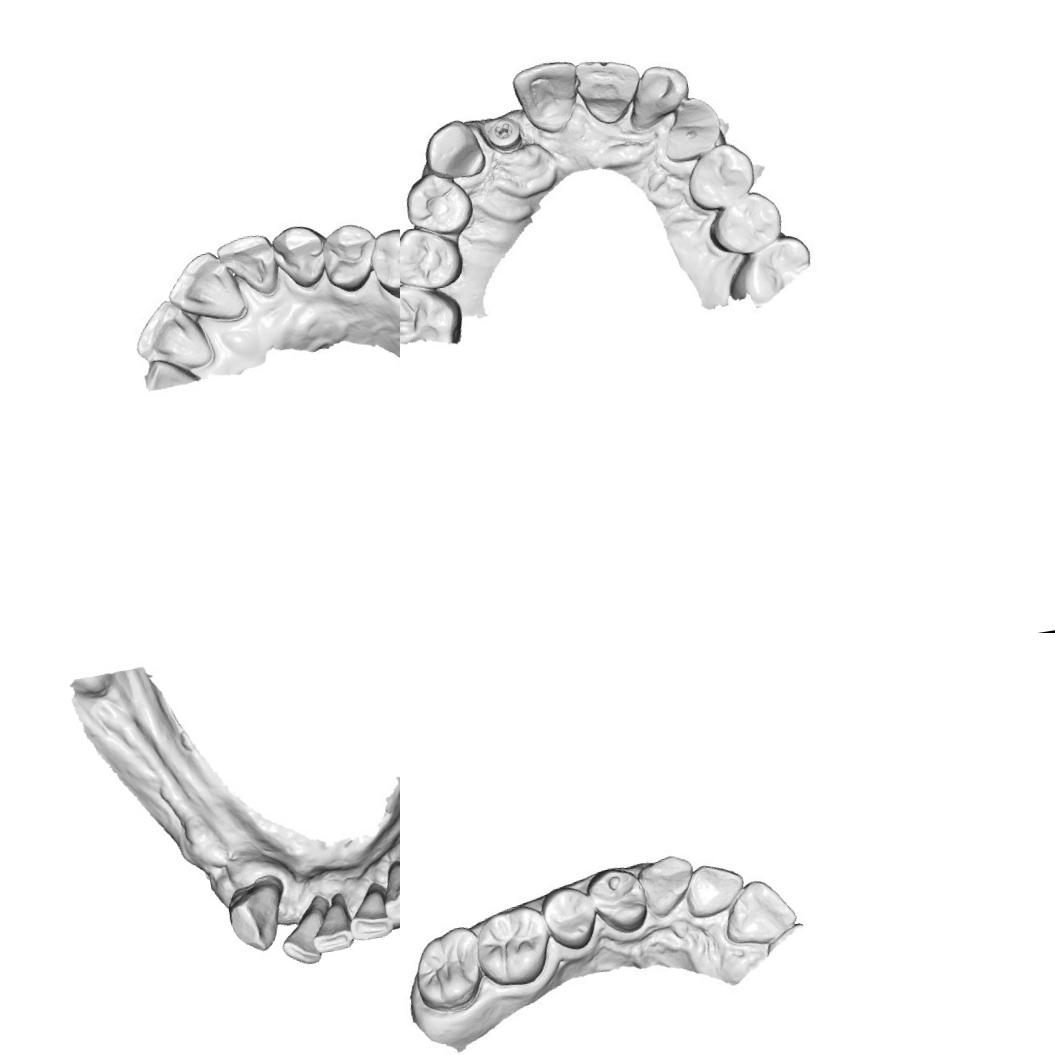canine: (655, 92, 734, 167), (222, 876, 290, 958), (419, 116, 492, 185), (635, 847, 698, 922), (276, 221, 326, 287), (375, 853, 400, 929)
implant_minus: (482, 116, 522, 154)
incisor: (132, 293, 218, 378), (168, 250, 246, 330), (722, 872, 804, 947), (516, 59, 584, 133), (218, 227, 280, 302), (576, 55, 644, 121), (684, 862, 746, 924), (628, 66, 686, 131), (304, 896, 357, 956), (345, 884, 397, 944), (277, 913, 330, 970)
molar: (470, 901, 554, 996), (405, 923, 487, 1017)
premolar: (679, 136, 761, 216), (702, 183, 786, 259), (401, 168, 475, 243), (400, 221, 470, 297), (314, 220, 378, 296), (588, 861, 652, 937), (541, 881, 601, 952), (363, 227, 400, 301)
